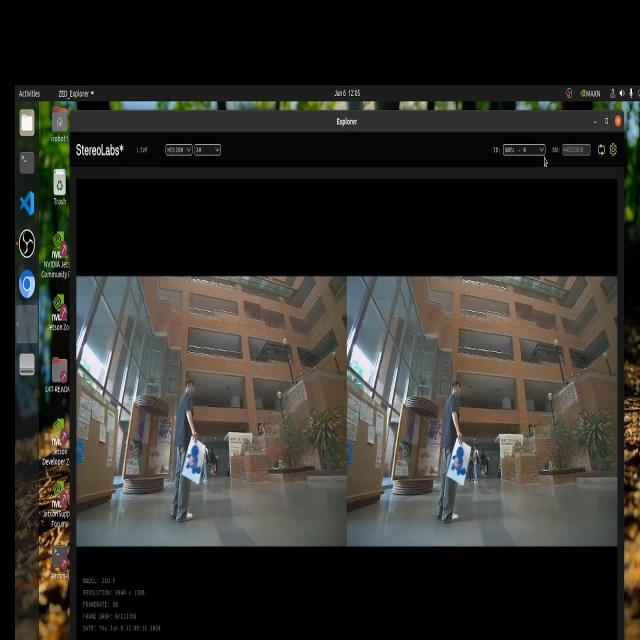blue: (452, 440, 469, 482), (185, 439, 202, 475)
